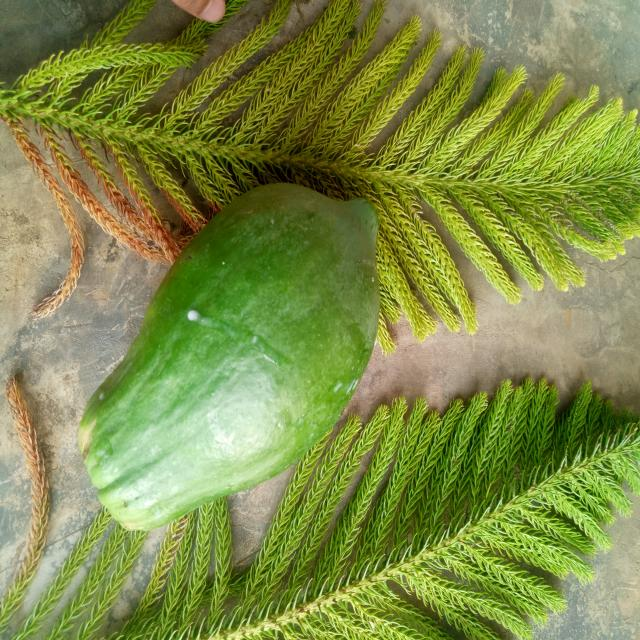Pepaya unrippen: (64, 180, 390, 538)
